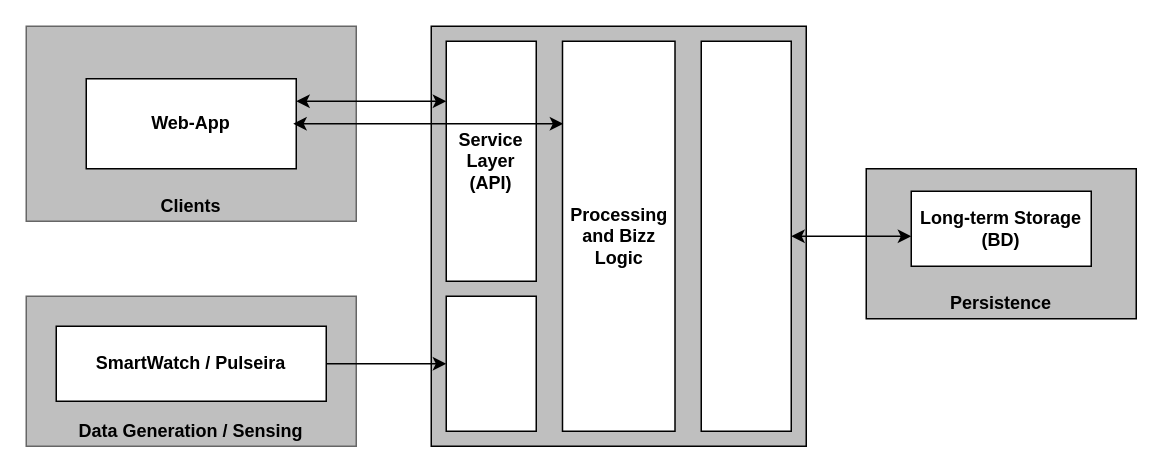
This 1163x473 diagram has some shape labels left out. Here are the shapes that lost their labels. From the top down, the box of each, then its label:
(700, 40, 791, 431): Data Access
(445, 295, 536, 431): Message Queues
